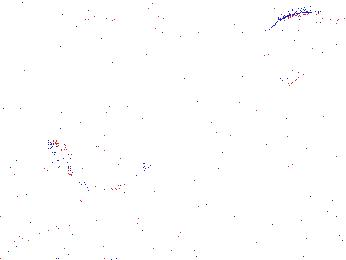moon jellyfish: (53, 18, 158, 108), (51, 121, 147, 193), (262, 11, 343, 85), (179, 15, 250, 75), (209, 28, 280, 76)
